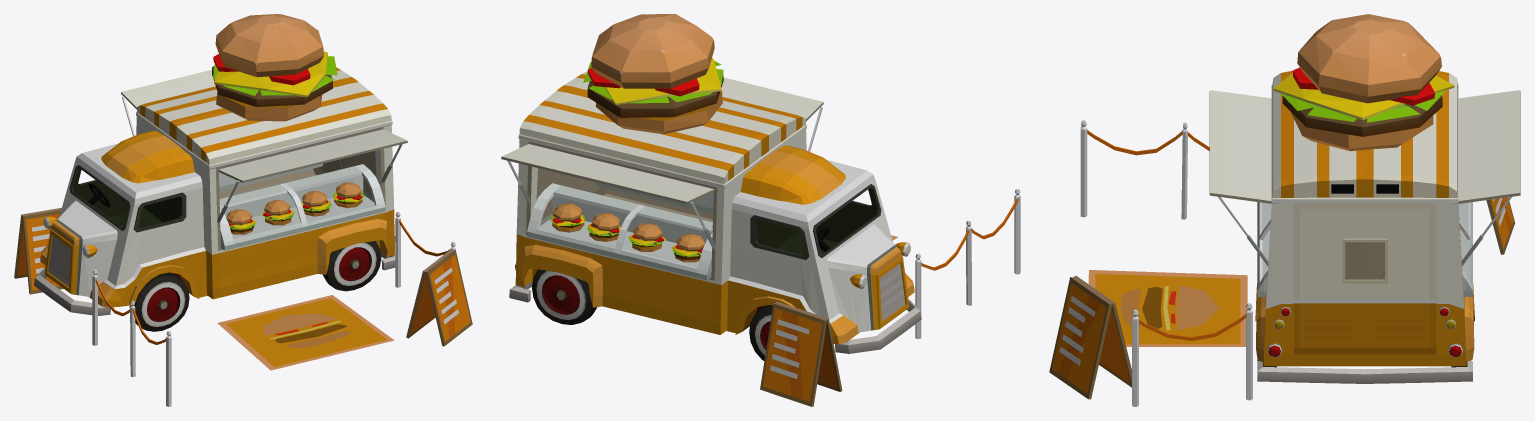
3 views of the same model, side by side, from view 1: azimuth 30°, elevation 25°; view 2: azimuth 150°, elevation 25°; view 3: azimuth 270°, elevation 25° (orthographic). The views are drawn at different scales.
Visible parts, largest first — view 1: o-2; view 2: o-2; view 3: o-2.
Boxes of the visible parts, x1,y1,x2,y2 form: o-2: [14, 14, 472, 406]; o-2: [501, 14, 1020, 406]; o-2: [1049, 14, 1520, 406].
Bounding box in the file's own units: 1.07 × 0.8211 × 1.09.
